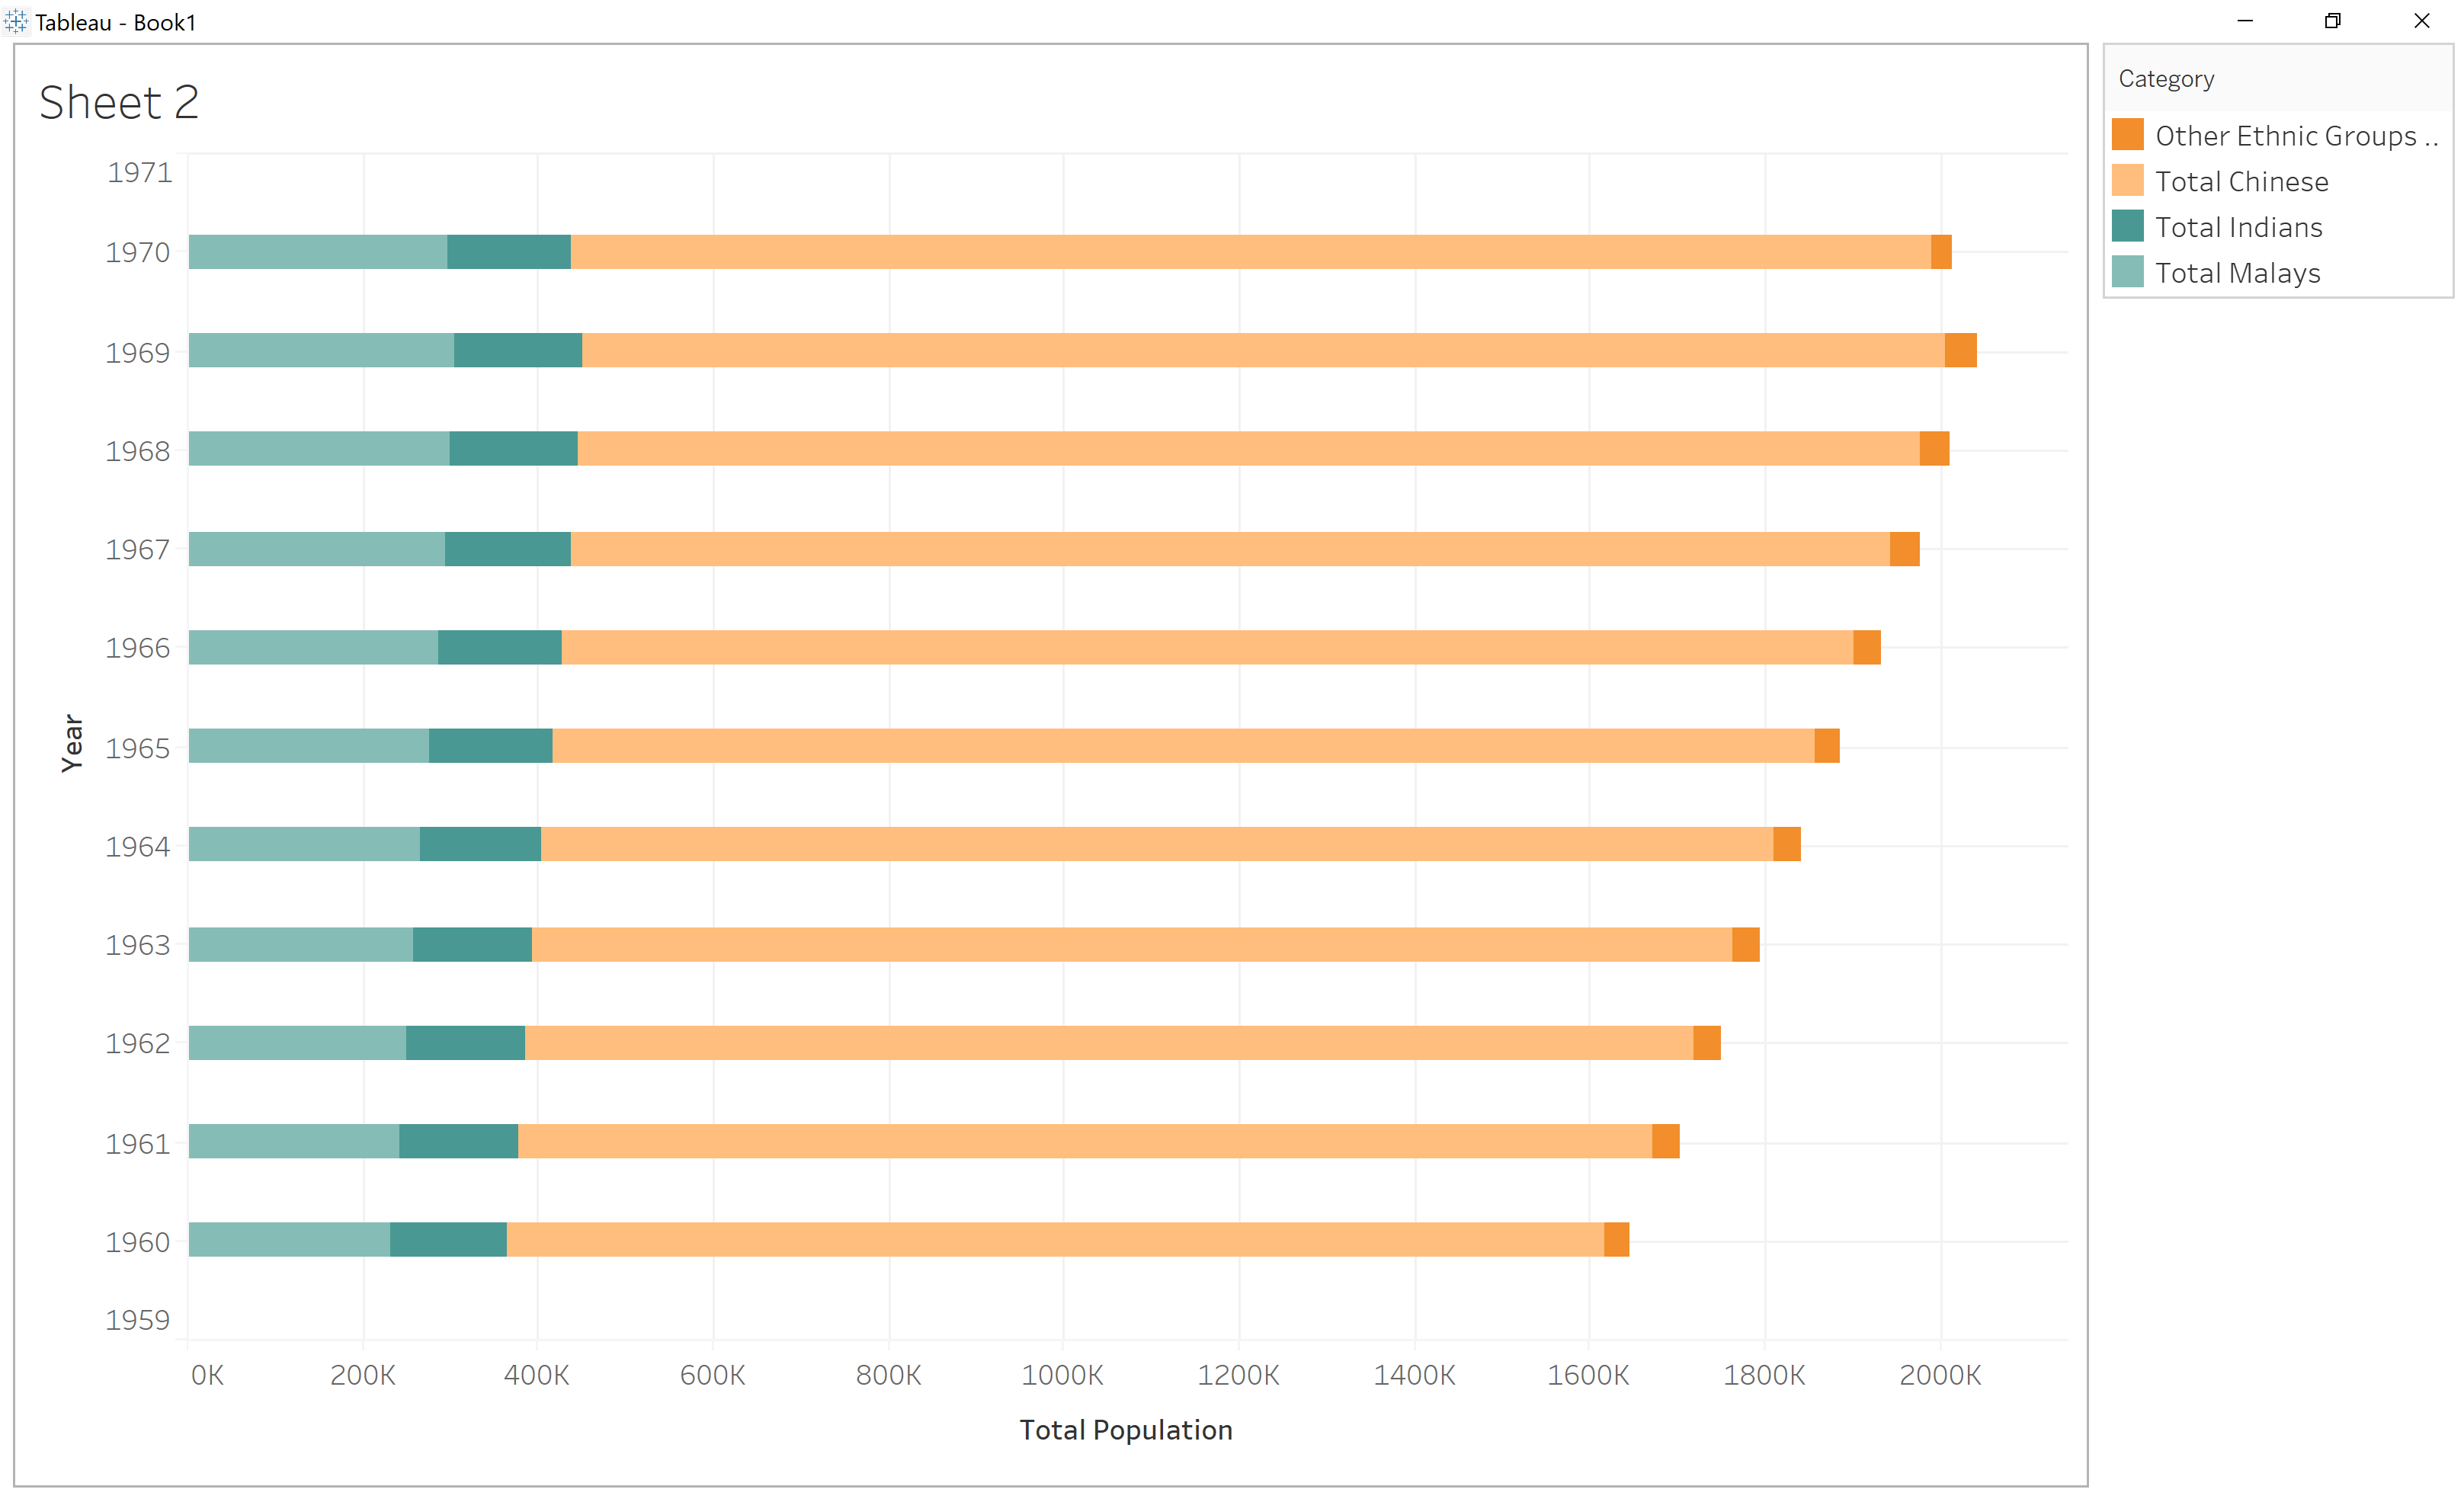

This screenshot's page, from the dashboard's own definition file:
{"tool":"tableau","page":{"name":"Dashboard 1","canvas":[1000,800],"ordinal":0},"visuals":[{"type":"legend","title":"Sheet 2","param":"[federated.0z8t7730n49umv189vhju0uh1ebl].[none:Category:nk]","box":[8,8,984,106]},{"type":"worksheet","title":"Sheet 2","mark":"Bar","rows":["year"],"cols":["value"],"box":[8,114,984,678]}]}

Visuals, with their boxes in screenshot pixels (x1, y1, x2, y2):
"Sheet 2" legend: bbox=[188, 22, 2077, 225]
"Sheet 2" worksheet (Bar marks): bbox=[188, 225, 2077, 1498]
